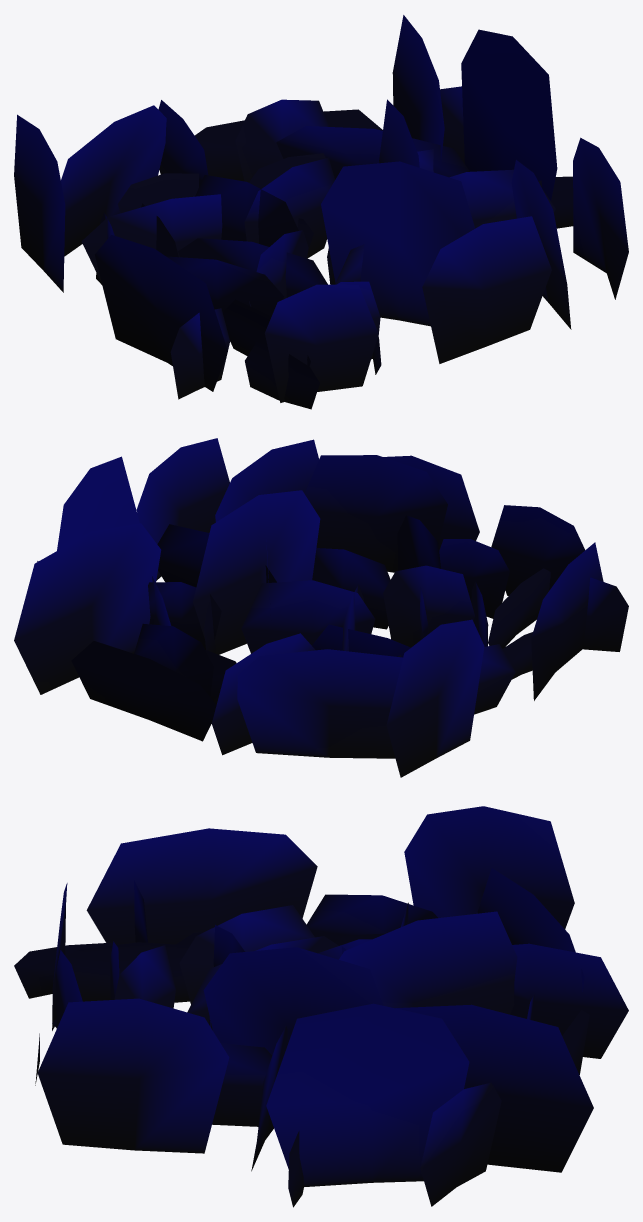
The model's file is SM_Grass_S_Patch_Lg_05.fbx.
3 renders of one model, top to bottom at view 1: azimuth 30°, elevation 25°; view 2: azimuth 150°, elevation 25°; view 3: azimuth 270°, elevation 25°, orthographic. The views are drawn at different scales.
Visible parts, largest first — view 1: SM_Grass_S_Patch_Lg_05; view 2: SM_Grass_S_Patch_Lg_05; view 3: SM_Grass_S_Patch_Lg_05.
Boxes of the visible parts, x1=… form: SM_Grass_S_Patch_Lg_05: x1=14, y1=15, x2=628, y2=409; SM_Grass_S_Patch_Lg_05: x1=14, y1=438, x2=628, y2=777; SM_Grass_S_Patch_Lg_05: x1=14, y1=806, x2=628, y2=1207.
Bounding box in the file's own units: 187 × 181 × 60.82.
